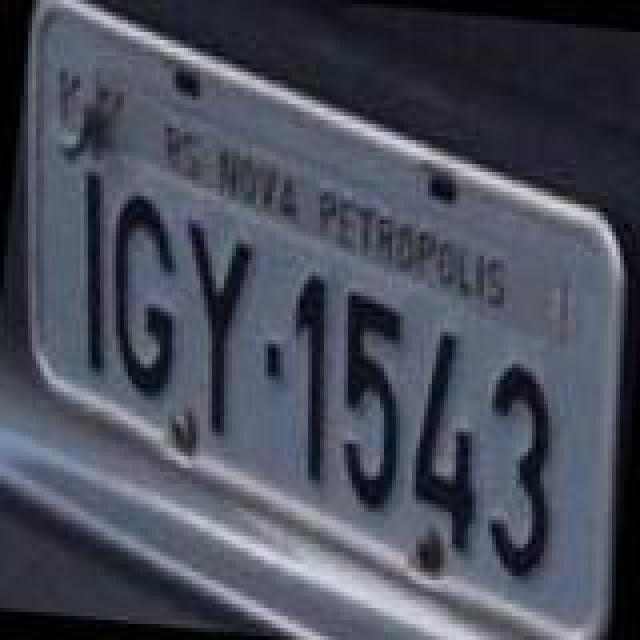1: (278, 268, 346, 484), (64, 168, 128, 376)
3: (474, 360, 566, 584)
4: (402, 328, 494, 552)
5: (322, 288, 414, 512)
G: (96, 190, 192, 402)
Y: (162, 218, 254, 438)
